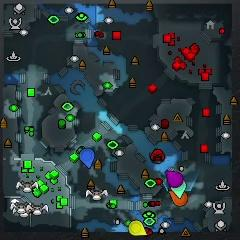p1: (79, 148, 96, 169)
p2: (171, 179, 187, 198)
p3: (165, 170, 183, 188)
p4: (129, 220, 148, 236)
p5: (169, 191, 188, 206)
